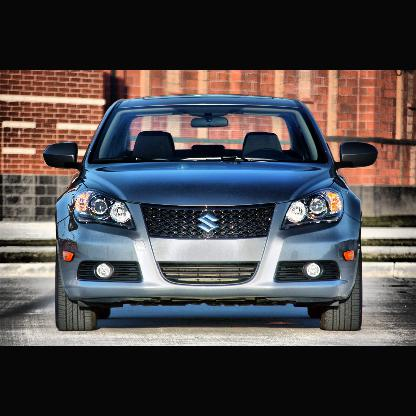Suzuki Kizashi Sedan 2012: (44, 93, 381, 332)
